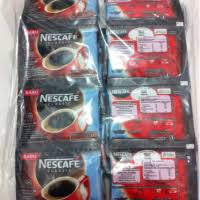nescafe-classic/gold-small: (102, 88, 192, 146), (103, 27, 188, 87), (18, 27, 99, 87), (15, 147, 101, 200), (19, 88, 102, 141), (106, 151, 192, 200)
